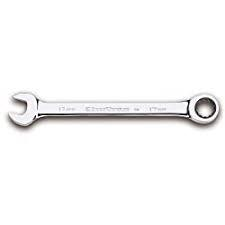wrench: (6, 89, 221, 127)
